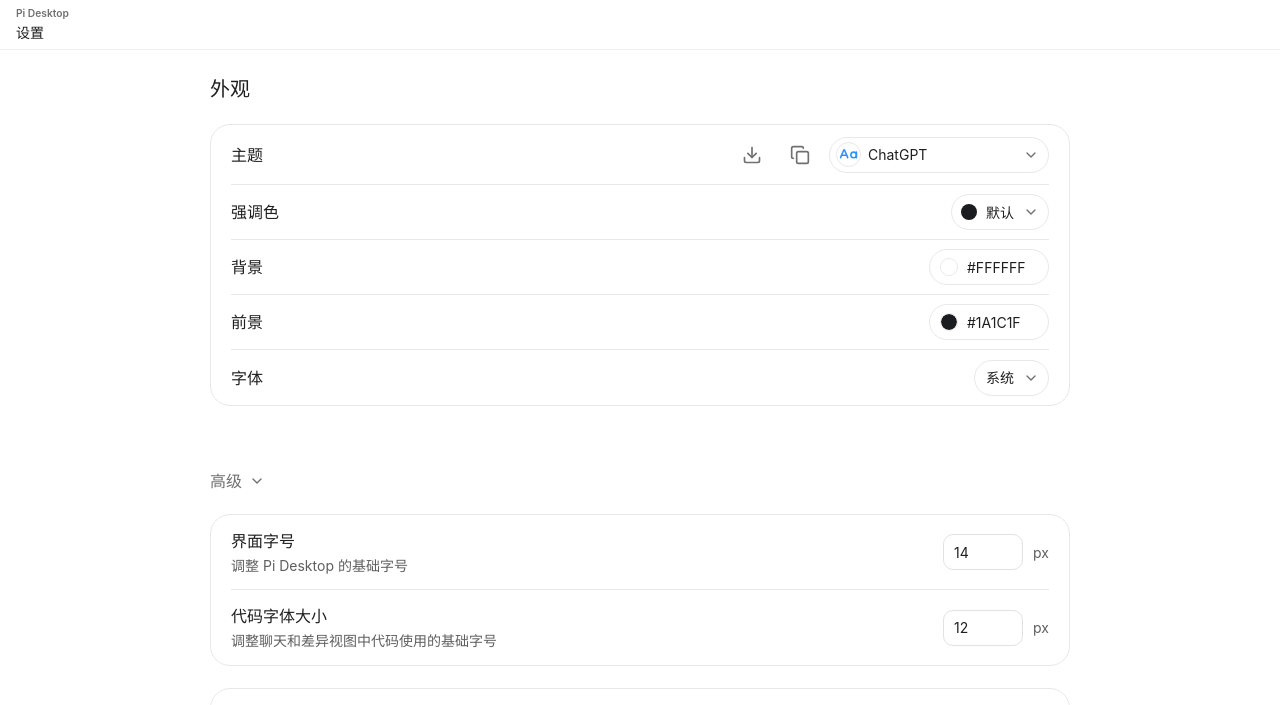
SettingsView › 新建主题支持选择、预览和保存自定义背景
Select "管理主题与背景…" in the dropdown named "主题" at (939, 155), box [829, 137, 1049, 173]
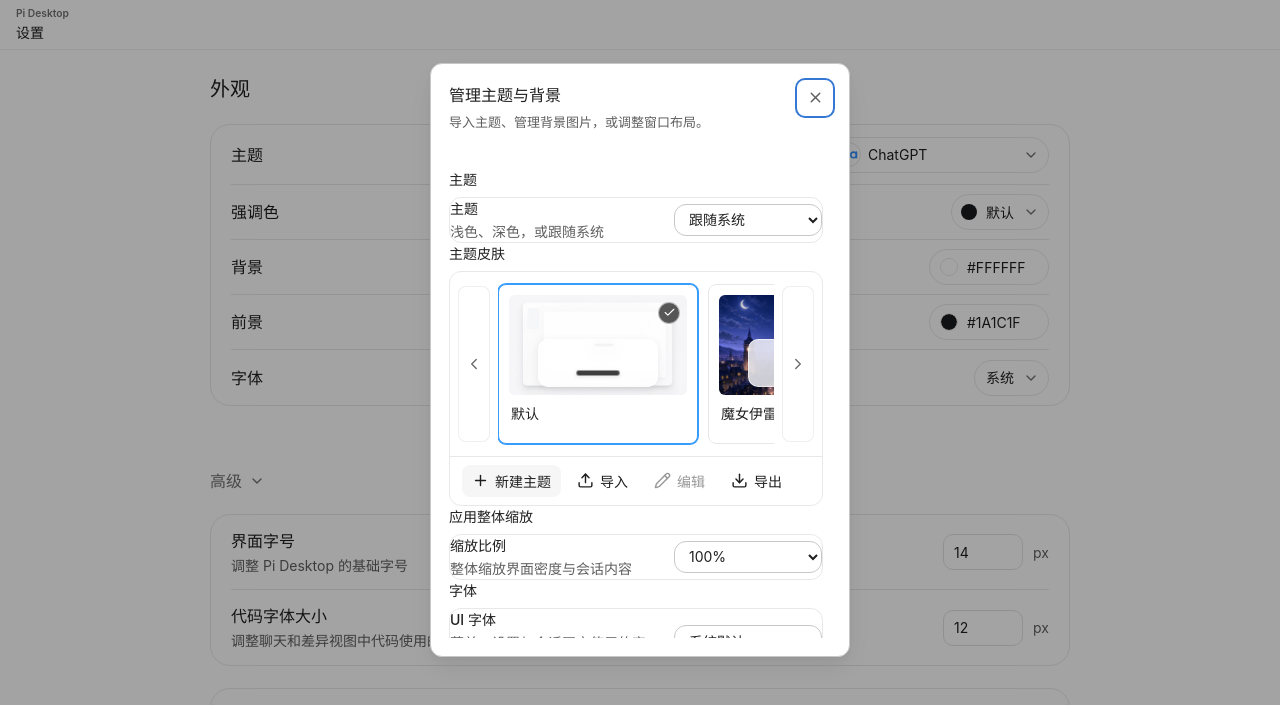
Click the button "新建主题".
click(512, 481)  # box [462, 465, 561, 497]
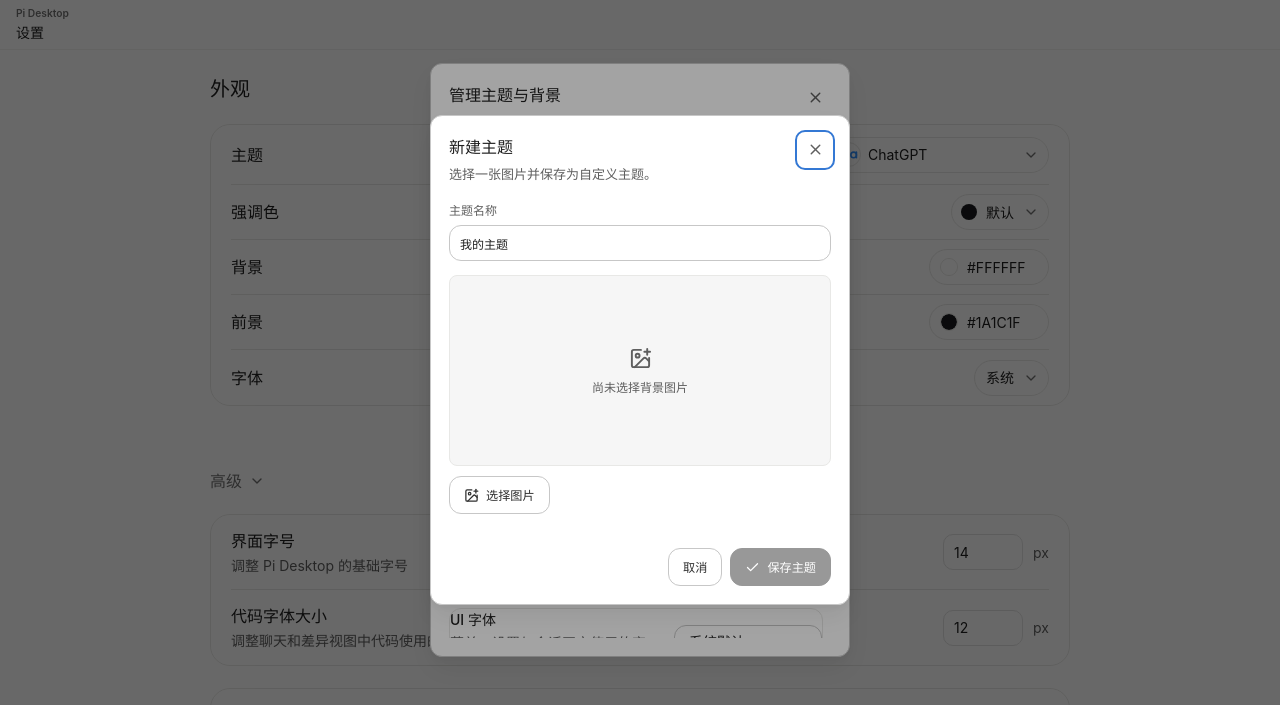
Replace the text in the field labelled "主题名称" with "夜航" at (640, 243), box [449, 225, 831, 261]
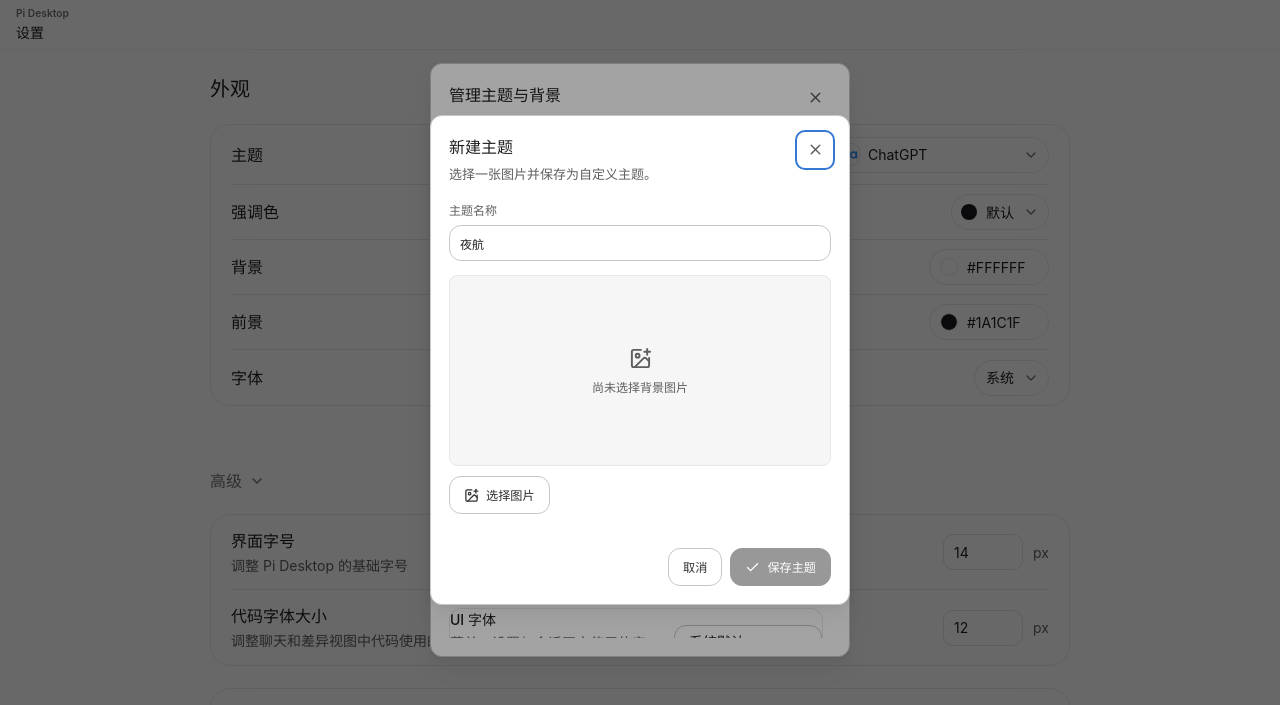
Click the button "选择图片".
click(499, 495)  # box [449, 476, 550, 514]
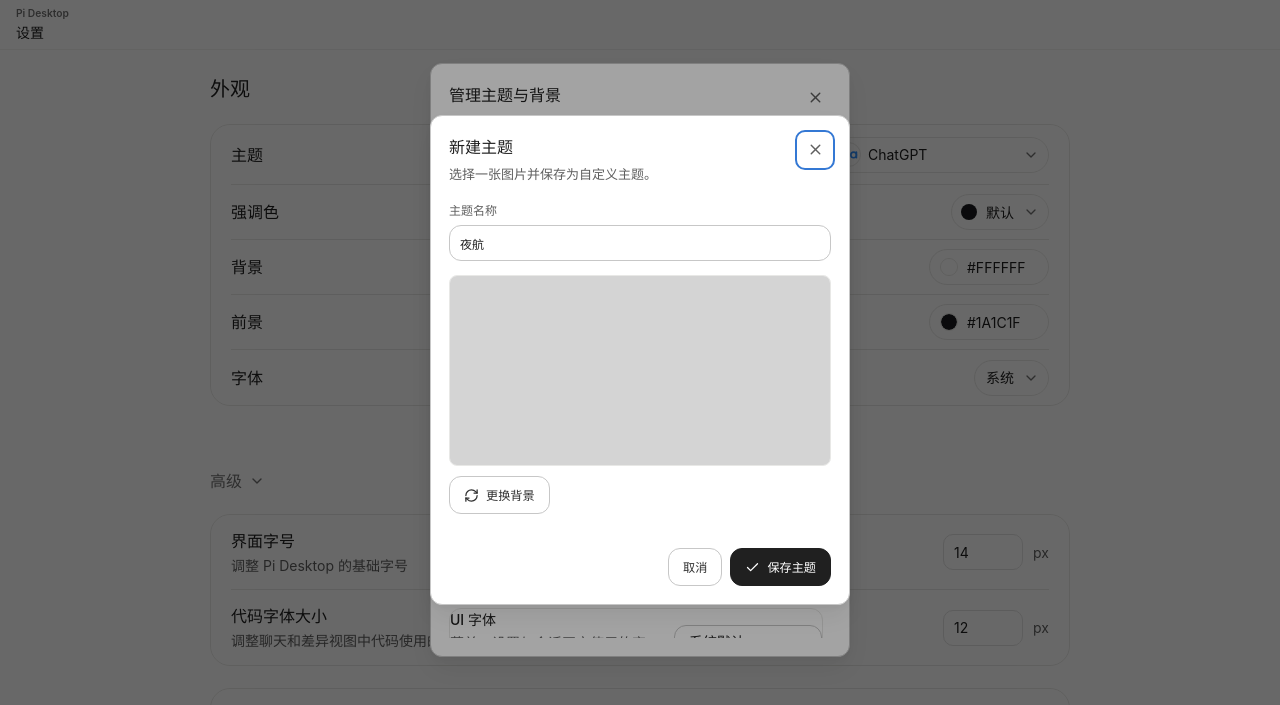
Click the button "保存主题".
click(781, 567)  # box [730, 548, 831, 586]
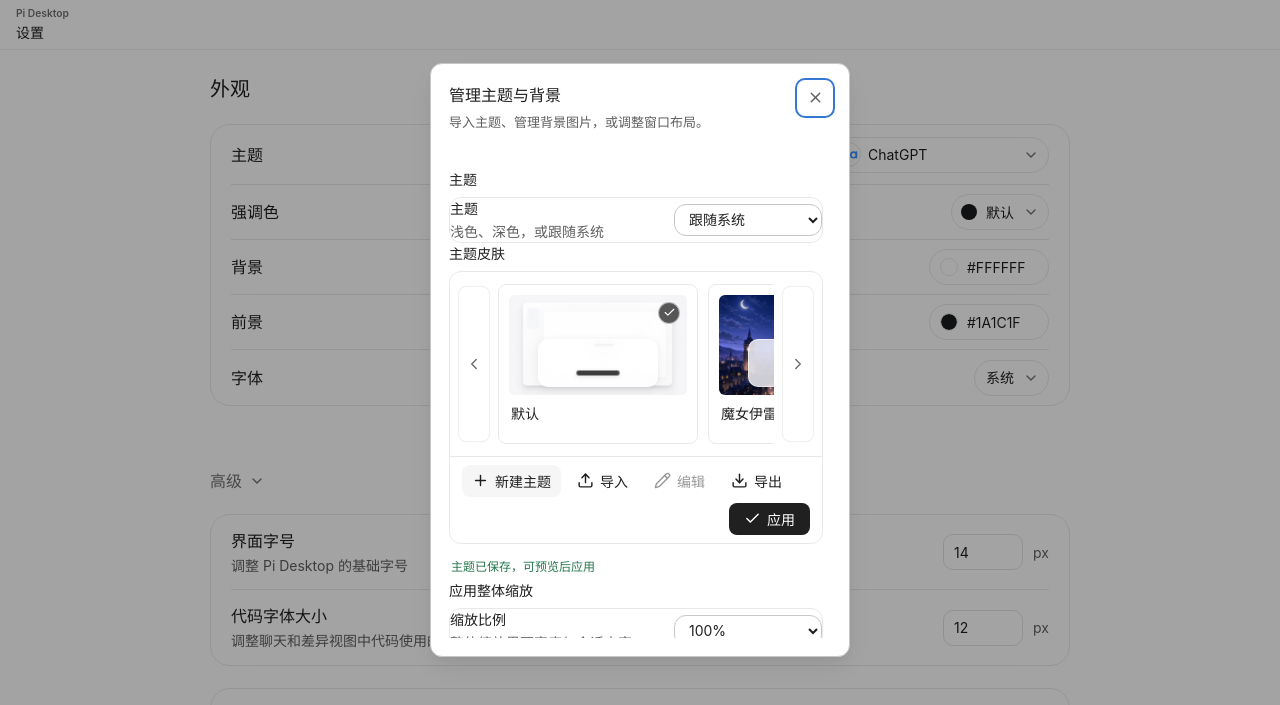
Expected: the message reads "主题已保存，可预览后应用", [451, 559, 595, 574]
